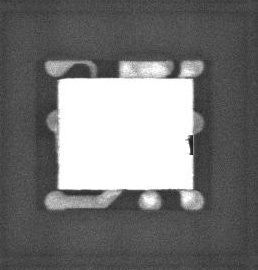DIE_BROKEN: (187, 132, 195, 158)
